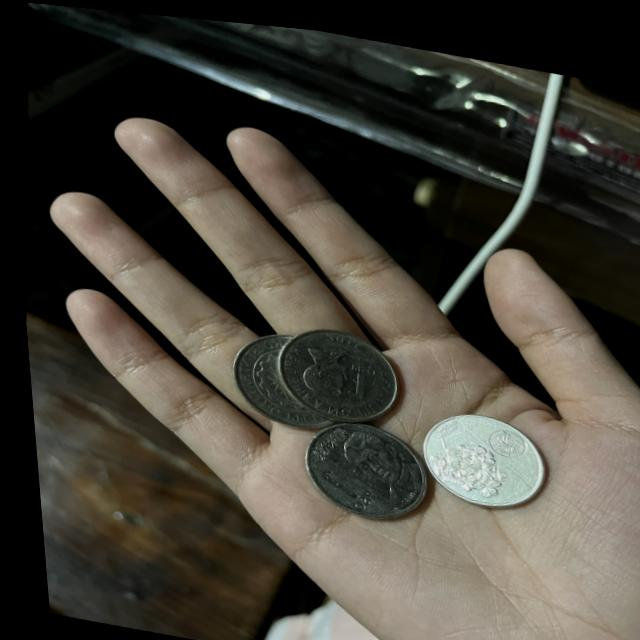1_New_Back: (417, 422, 502, 490)
1_New_Front: (298, 455, 372, 510)
1_Old_Back: (217, 317, 337, 429)
1_Old_Front: (327, 346, 377, 403)
